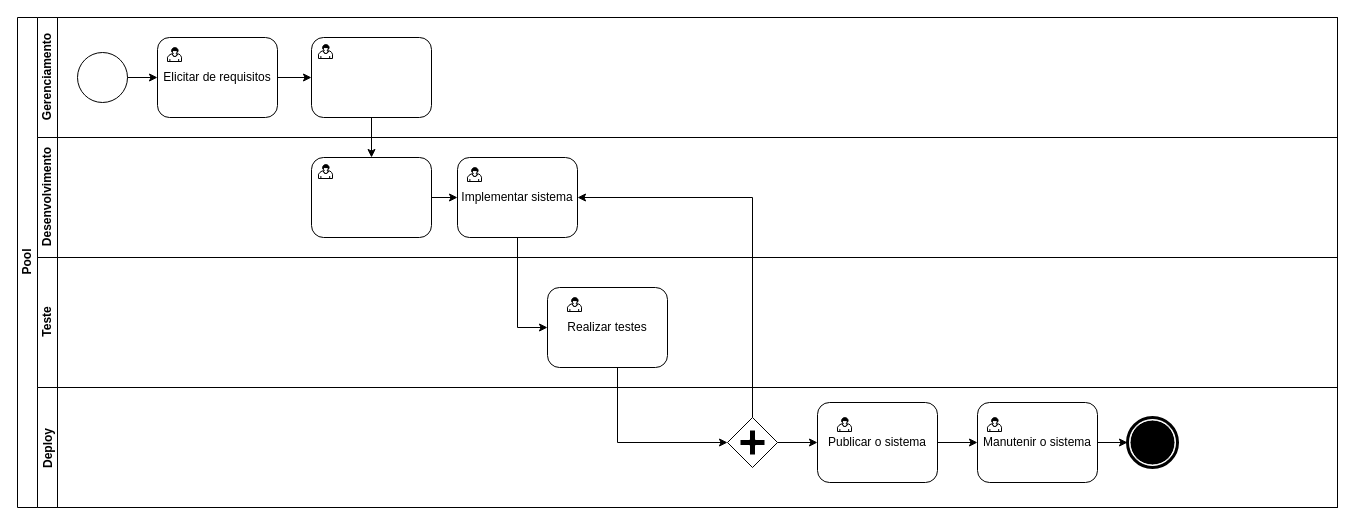
This 1355x525 diagram has some shape labels left out. The shapes that lost their labels are listed below. From the top down, each one's centre as x and y in pixels, then its label:
point (371, 77): Documentar projeto
point (371, 197): Prototipagem
